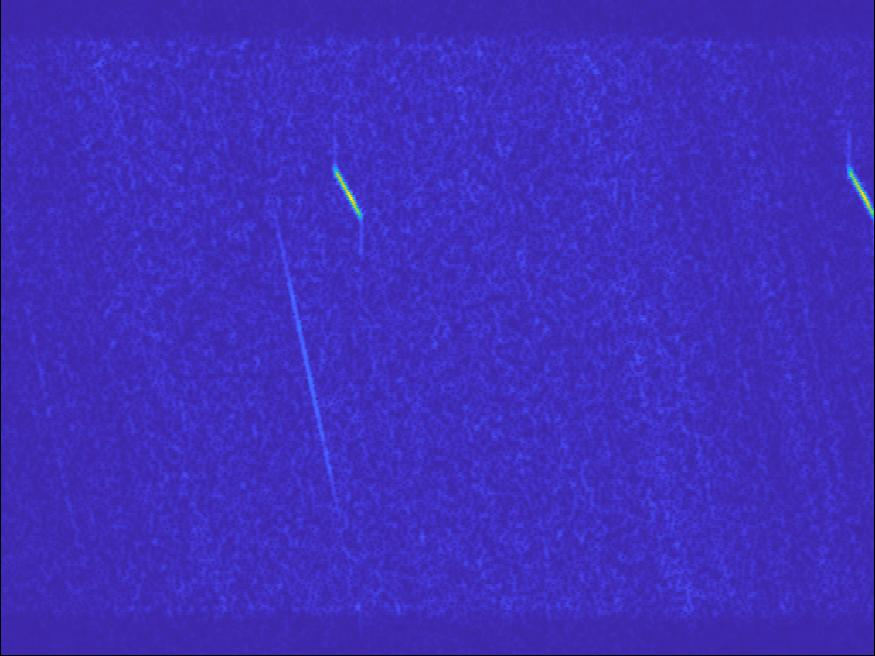Interference: (201, 121, 431, 316), (378, 289, 594, 374), (156, 211, 239, 251), (382, 502, 447, 548)
